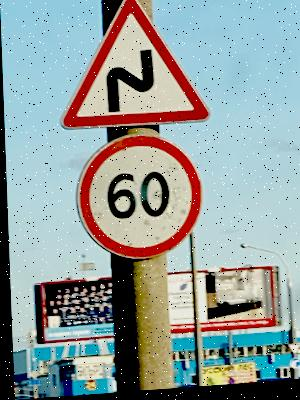Speed Limit -60-: (69, 130, 203, 265)
